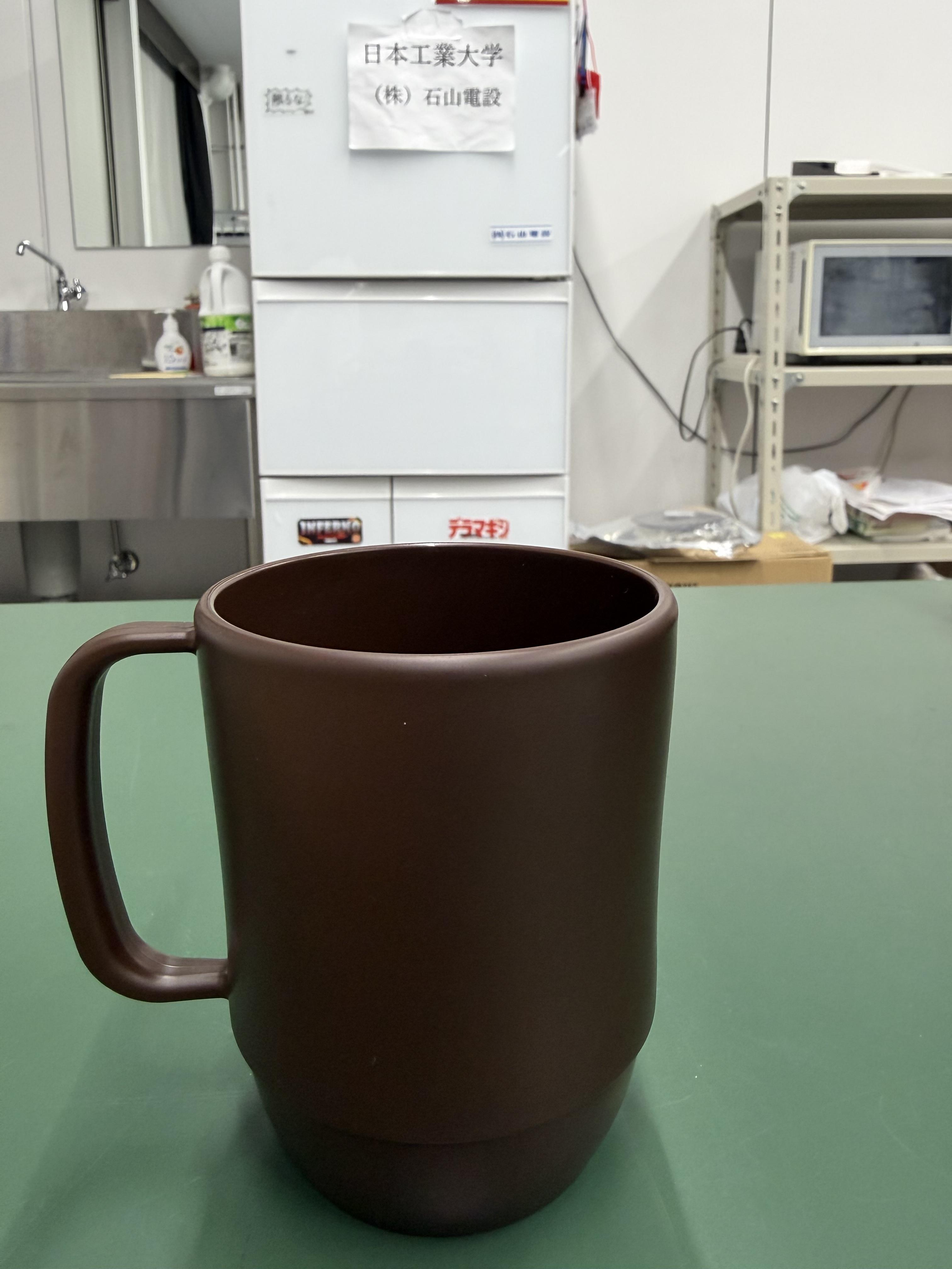mug-real100-3d100: (45, 542, 677, 1235)
